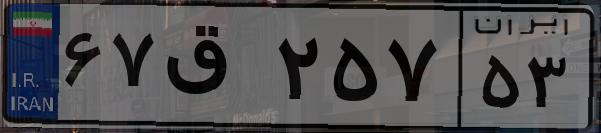2: (270, 28, 330, 110)
3: (525, 38, 570, 115)
5: (330, 28, 385, 110), (475, 38, 525, 113)
6: (57, 26, 110, 100)
7: (385, 28, 445, 110), (110, 28, 158, 98)
ق: (158, 20, 270, 120)
